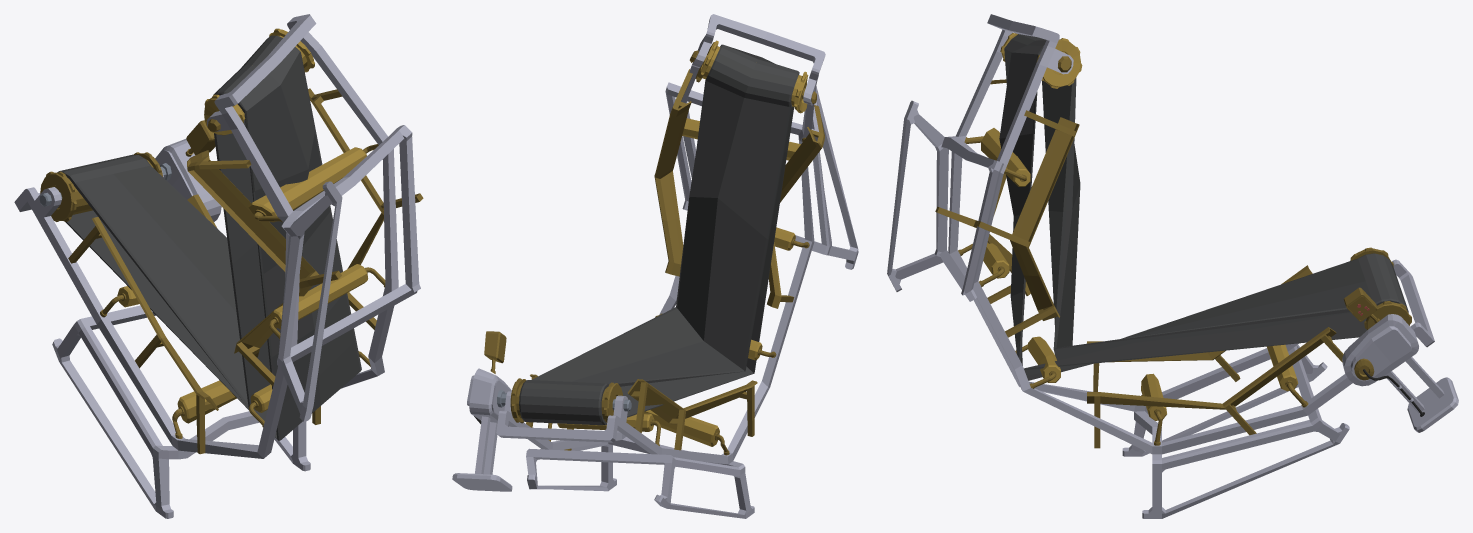
File: Cube_007_factory-conveyer_003.fbx
The picture shows the model from 3 angles, left to right: view 1: azimuth 30°, elevation 25°; view 2: azimuth 150°, elevation 25°; view 3: azimuth 270°, elevation 25°; orthographic projection. The views are drawn at different scales.
Visible parts, largest first — view 1: Cube.007.factory-conveyer.003; view 2: Cube.007.factory-conveyer.003; view 3: Cube.007.factory-conveyer.003.
Boxes of the visible parts, x1,y1,x2,y2 form: Cube.007.factory-conveyer.003: (14, 14, 423, 518); Cube.007.factory-conveyer.003: (452, 14, 858, 518); Cube.007.factory-conveyer.003: (887, 14, 1458, 518).
Size of the model in its own units: 1.88 by 4.3 by 4.75.
